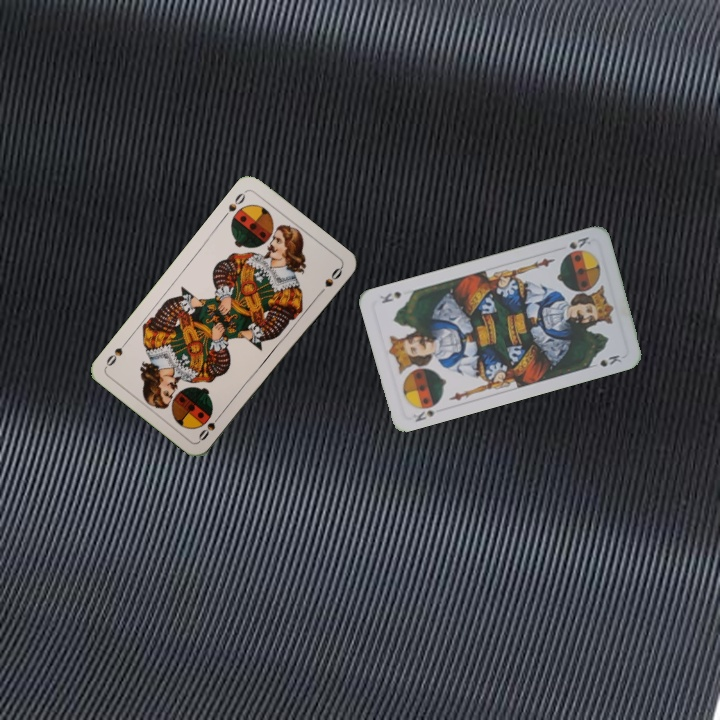SK: (565, 232, 593, 252), (409, 406, 437, 425)
SO: (194, 409, 225, 444), (219, 189, 248, 221)
